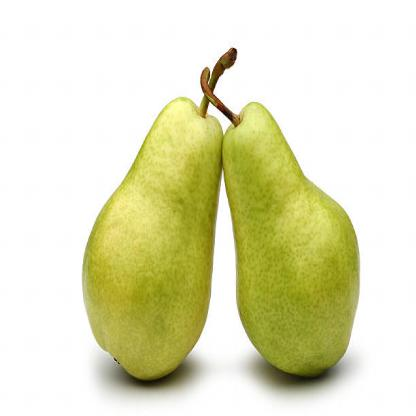Paer: (220, 96, 376, 387), (79, 70, 221, 376)
